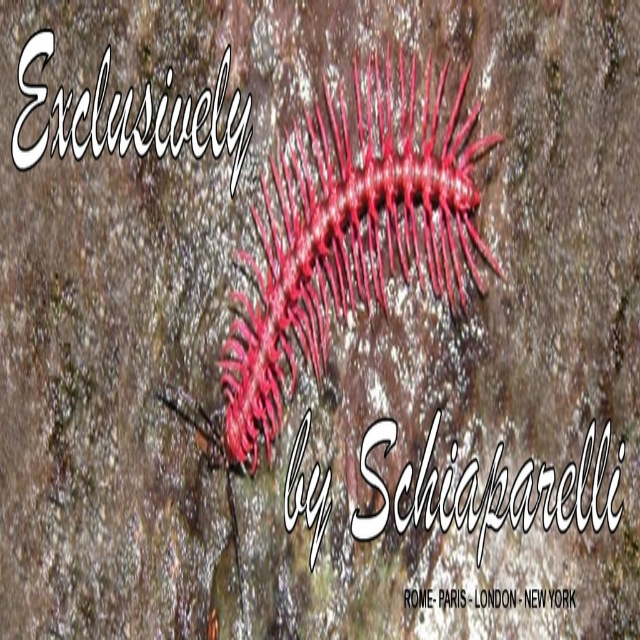Centipede: (204, 29, 545, 468)
